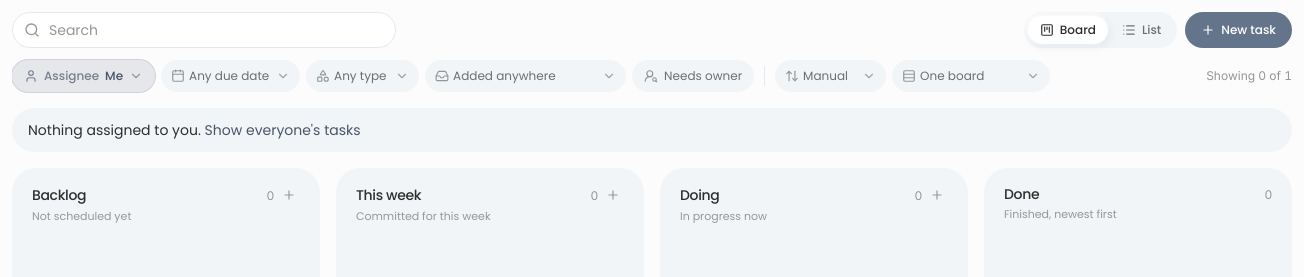
Test: TaskBoard: whose cards › with nothing assigned to the viewer, Mine says so and offers everyone's
Expected: the text "Nothing assigned to you." is shown, x1=28 y1=120 x2=201 y2=140
Step 1. Click the button "Show everyone's tasks" → (283, 130), box x1=205 y1=120 x2=360 y2=140
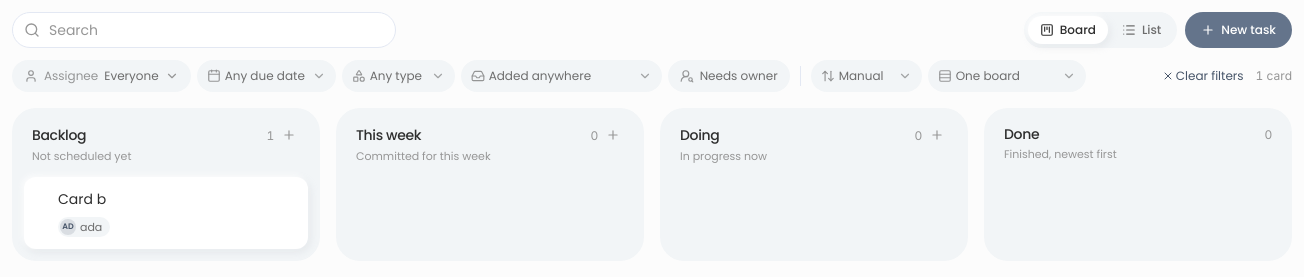
Now the text "Everyone" is shown, box x1=104 y1=68 x2=159 y2=84
Now the text "Nothing assigned to you." is gone
